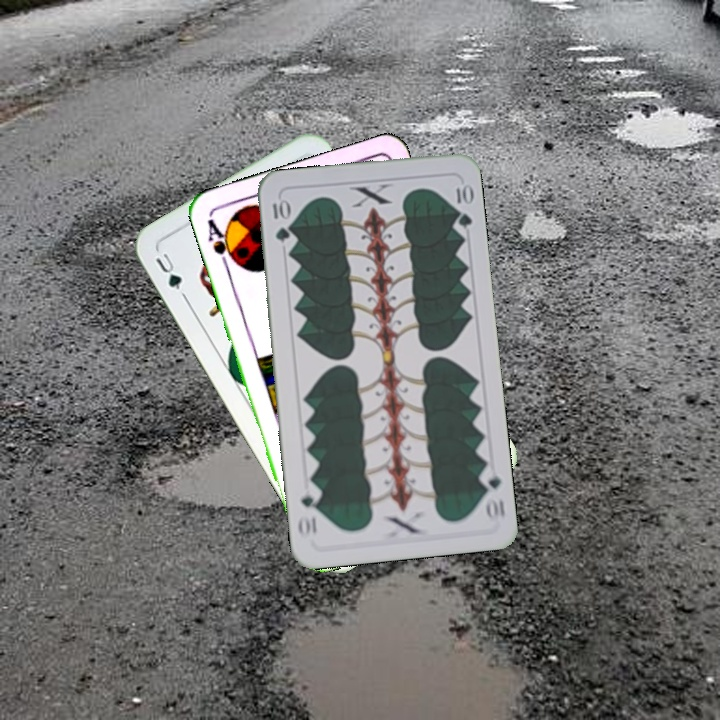G10: (476, 464, 508, 524), (268, 195, 292, 244)
GU: (151, 248, 185, 293)
SA: (203, 214, 240, 272)
